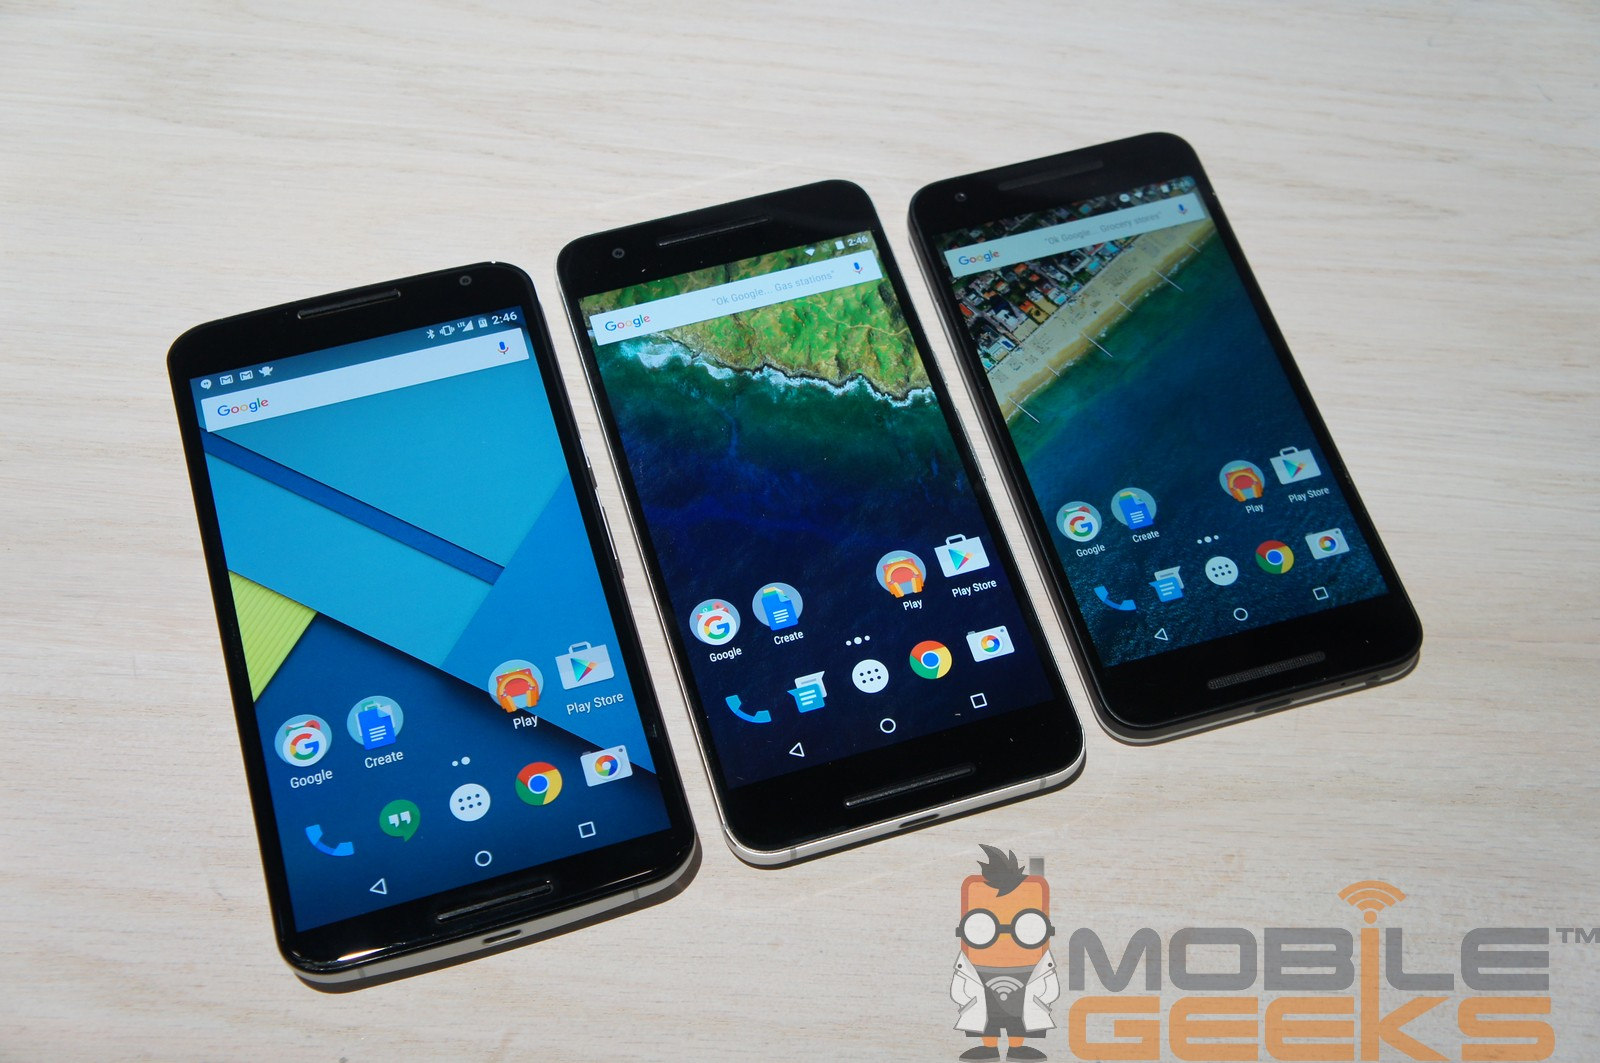smartphone: (166, 261, 700, 986), (556, 178, 1085, 866), (906, 131, 1424, 746)
